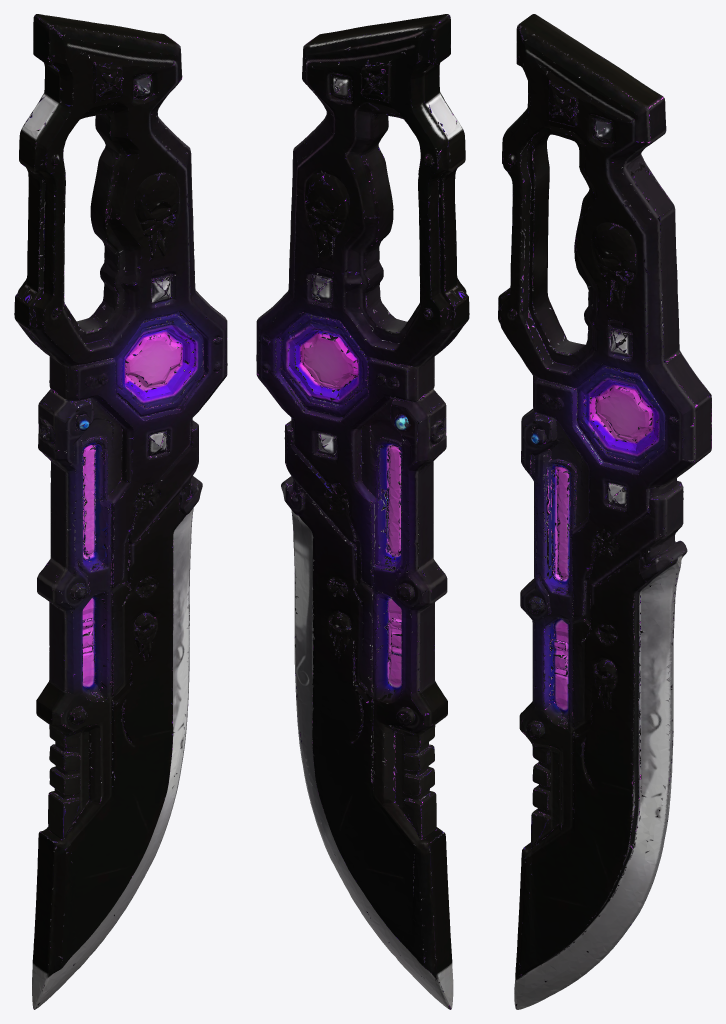
File: energy-blade-web.glb
3 renders of one model, left to right at view 1: azimuth 30°, elevation 25°; view 2: azimuth 150°, elevation 25°; view 3: azimuth 330°, elevation 25°, orthographic.
Visible parts, largest first — view 1: world; view 2: world; view 3: world.
Part boxes in pixels (<box>): world: <box>14,14,227,1009</box>; world: <box>256,14,469,1009</box>; world: <box>498,14,711,1009</box>.
Bounding box in the file's own units: 0.419 × 2 × 0.1328.
Materials: 1 (1 with a texture image).
